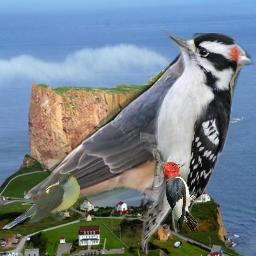Cuckoo: (1, 173, 80, 229)
Swallow: (23, 33, 254, 220)
Woodpecker: (140, 22, 249, 256), (163, 161, 199, 232)
